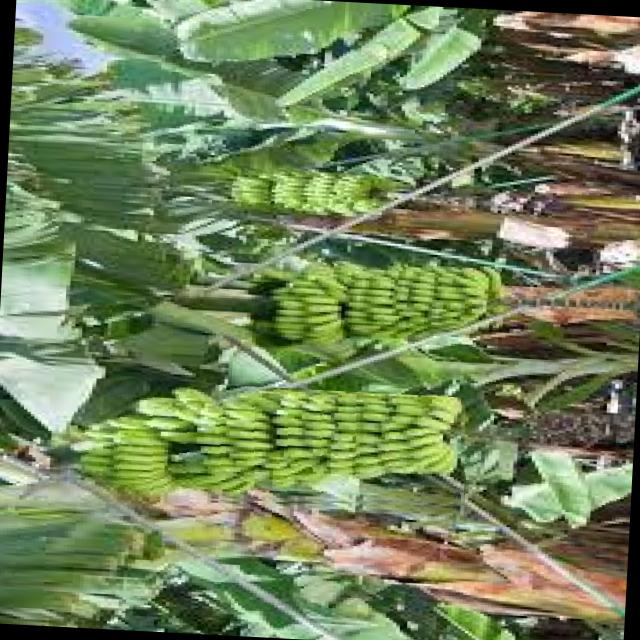Organic: (68, 376, 470, 517), (240, 258, 502, 351), (208, 166, 414, 219)
